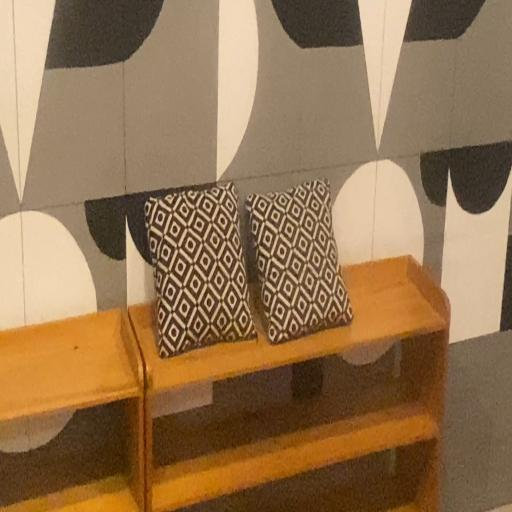bantal: (141, 181, 257, 357), (247, 178, 353, 340)
